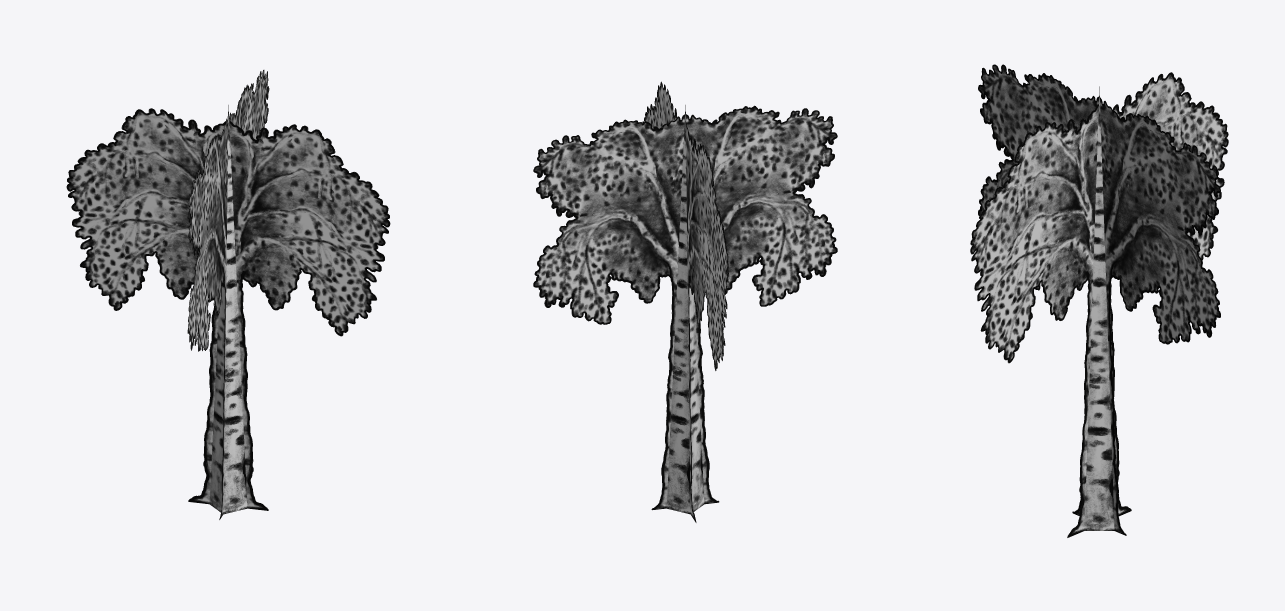
File: tree1.obj
3 renders of one model, left to right at view 1: azimuth 30°, elevation 25°; view 2: azimuth 150°, elevation 25°; view 3: azimuth 270°, elevation 25°, orthographic. The views are drawn at different scales.
Visible parts, largest first — view 1: cone; view 2: cone; view 3: cone.
Boxes of the visible parts, <box> form: cone: <box>66,70,390,519</box>; cone: <box>533,81,837,522</box>; cone: <box>970,64,1228,537</box>.
Size of the model in its own units: 11.31 by 16 by 11.31.
